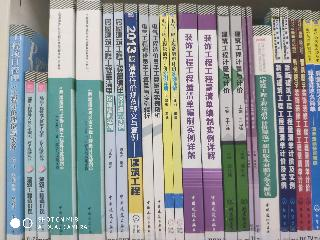book-spine: (77, 1, 105, 239), (197, 5, 224, 240), (50, 2, 76, 240), (179, 5, 204, 240), (253, 26, 279, 240), (123, 4, 143, 239), (218, 6, 237, 239), (288, 10, 306, 239), (231, 6, 248, 240), (280, 9, 297, 239), (296, 10, 313, 240), (6, 24, 24, 240), (303, 11, 320, 239), (113, 3, 129, 240), (159, 5, 175, 240), (272, 9, 288, 239), (169, 5, 184, 240), (150, 6, 165, 240), (103, 4, 117, 240), (140, 4, 154, 239), (242, 9, 255, 240), (248, 7, 260, 240), (37, 73, 48, 240), (26, 72, 36, 240)
